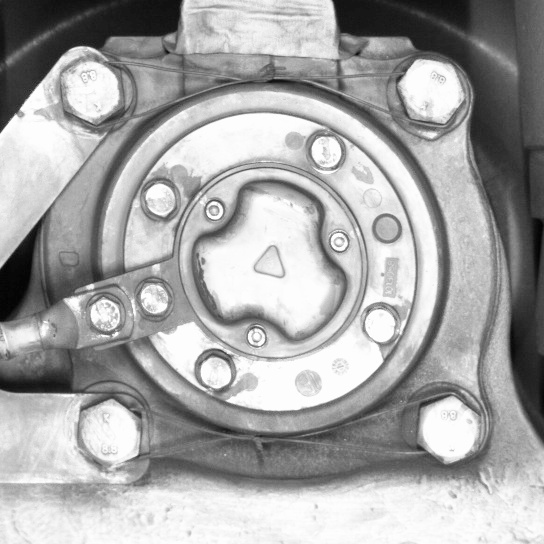Screw: (385, 43, 473, 134), (404, 385, 490, 477), (69, 386, 148, 482), (46, 46, 132, 131)
